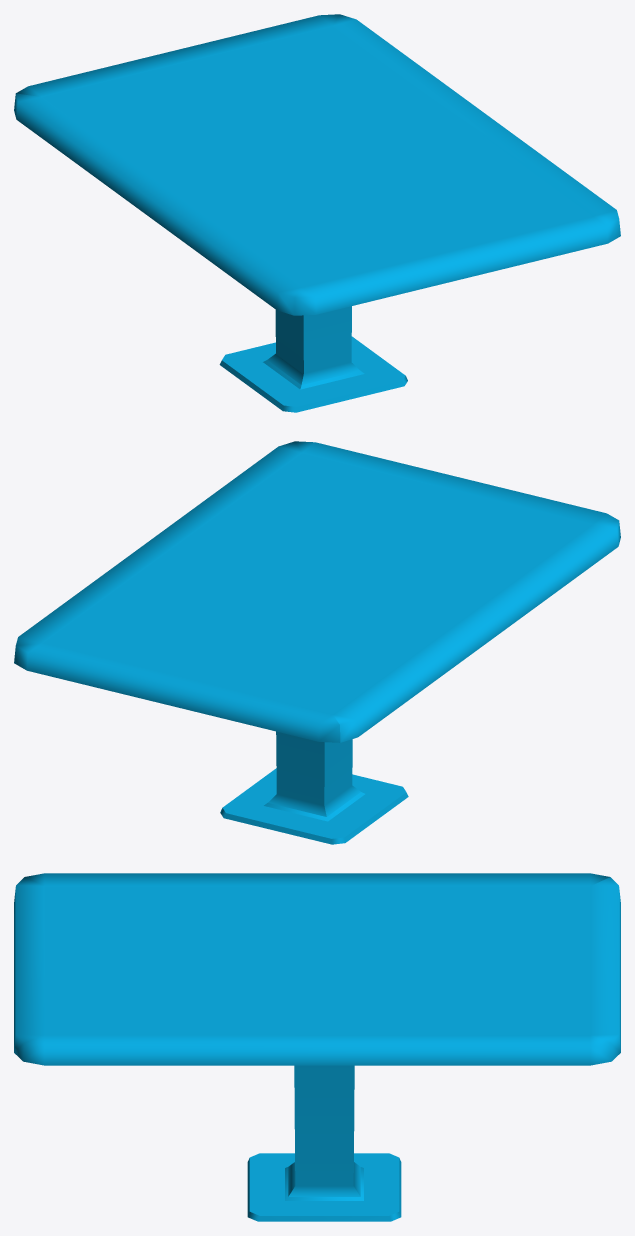
The model's file is Restaurant_Table_01B_Lod1.fbx.
The picture shows the model from 3 angles, top to bottom: view 1: azimuth 30°, elevation 25°; view 2: azimuth 150°, elevation 25°; view 3: azimuth 270°, elevation 25°; orthographic projection. The views are drawn at different scales.
Visible parts, largest first — view 1: Restaurant_Table_01B_Lod1; view 2: Restaurant_Table_01B_Lod1; view 3: Restaurant_Table_01B_Lod1.
Part boxes in pixels (x1,y1,x2,y2): Restaurant_Table_01B_Lod1: [14, 14, 620, 412]; Restaurant_Table_01B_Lod1: [14, 441, 620, 844]; Restaurant_Table_01B_Lod1: [14, 873, 620, 1221].
Bounding box in the file's own units: 120 × 73.76 × 177.
